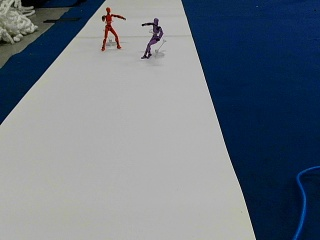pedestrian: (102, 8, 126, 50), (141, 18, 163, 59)
